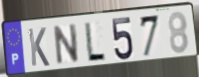5: (109, 15, 135, 61)
7: (137, 14, 162, 58)
8: (168, 10, 190, 56)
K: (27, 27, 51, 69)
L: (83, 20, 108, 62)
N: (53, 22, 81, 67)
